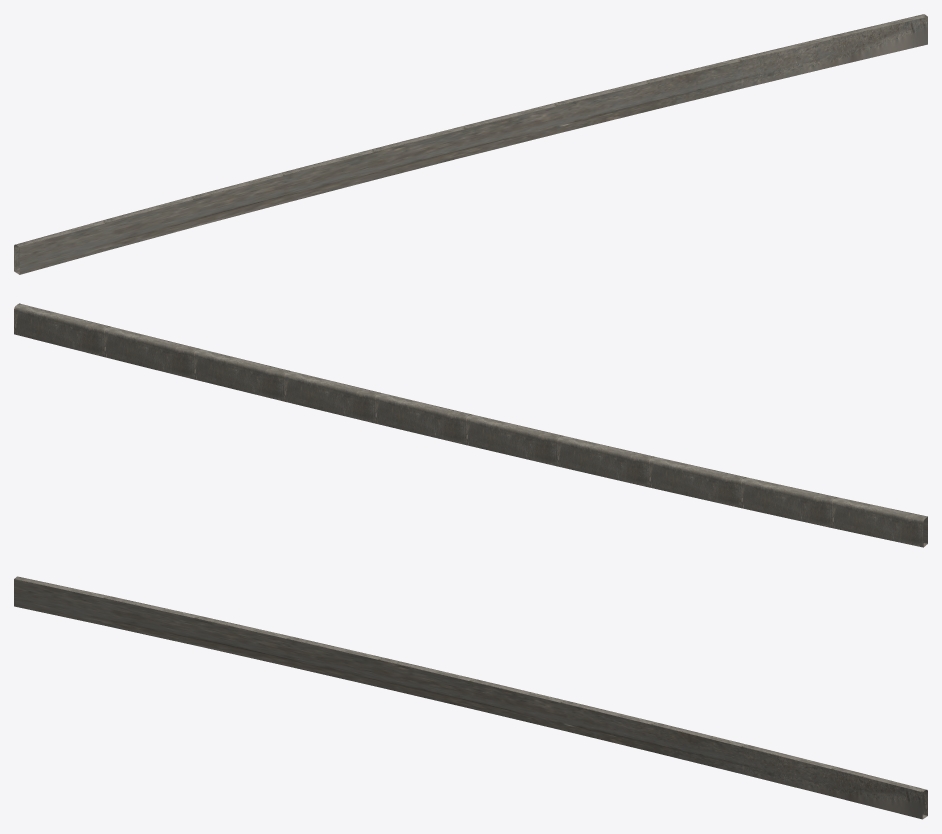
File: SM_Curb_08.glb
3 renders of one model, top to bottom at view 1: azimuth 30°, elevation 25°; view 2: azimuth 150°, elevation 25°; view 3: azimuth 330°, elevation 25°, orthographic.
Visible parts, largest first — view 1: SM_Curb_08; view 2: SM_Curb_08; view 3: SM_Curb_08.
Boxes of the visible parts, x1,y1,x2,y2 form: SM_Curb_08: (14, 14, 927, 274); SM_Curb_08: (14, 303, 927, 547); SM_Curb_08: (14, 576, 927, 819).
Size of the model in its own units: 2590 by 75 by 76.05.
1 material, 1 textured.
